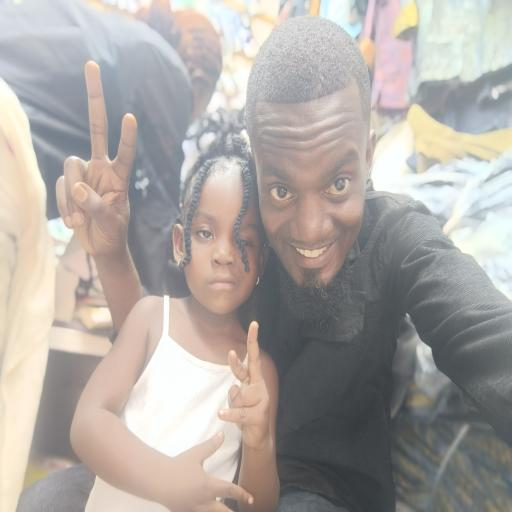MATTHIEU: (248, 12, 379, 311)
